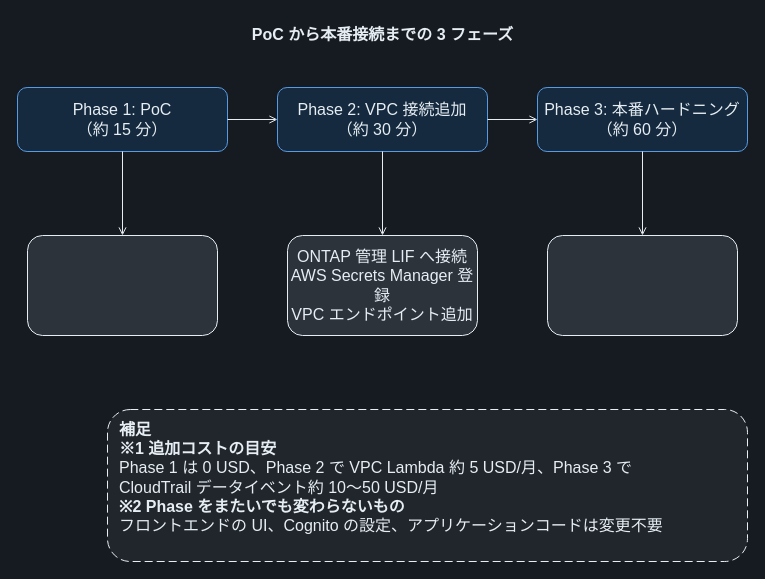
Some shapes in this 765 by 579 pixel diagram are drawn without their labels. The shapes that lost their labels are listed below. From the top down, each one's centre as x and y in pixels, then its label:
At point (122, 285): "DemoMode=true S3 バケットで動作確認 認証: Amazon Cognito".
At point (642, 285): "IAM 最小権限化 MFA 必須化 / AWS WAF 追加 監査ログ有効化".
